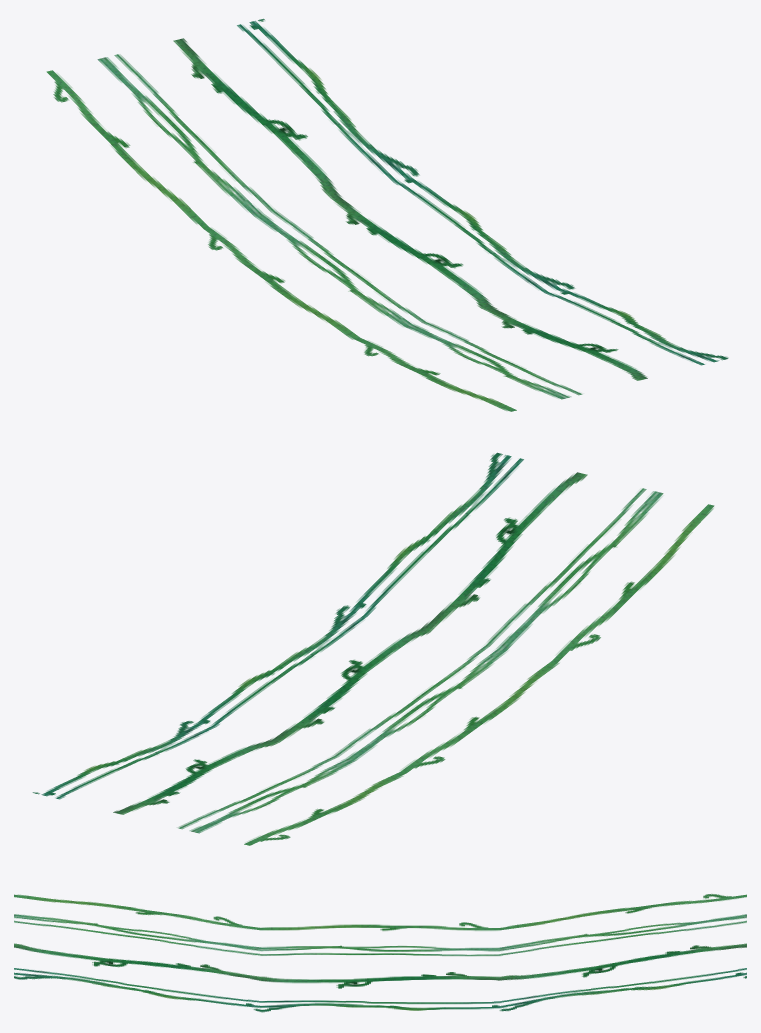
Rendered from bent_vines_2_thick.glb.
The picture shows the model from 3 angles, top to bottom: view 1: azimuth 30°, elevation 25°; view 2: azimuth 150°, elevation 25°; view 3: azimuth 270°, elevation 25°; orthographic projection. The views are drawn at different scales.
Visible parts, largest first — view 1: Bent Vines 2 Thick; view 2: Bent Vines 2 Thick; view 3: Bent Vines 2 Thick.
Part boxes in pixels (<box>): Bent Vines 2 Thick: <box>46,18,728,411</box>; Bent Vines 2 Thick: <box>32,452,714,845</box>; Bent Vines 2 Thick: <box>14,894,746,1012</box>.
Size of the model in its own units: 2 by 0.3012 by 6.
Materials: 1 (1 with a texture image).
